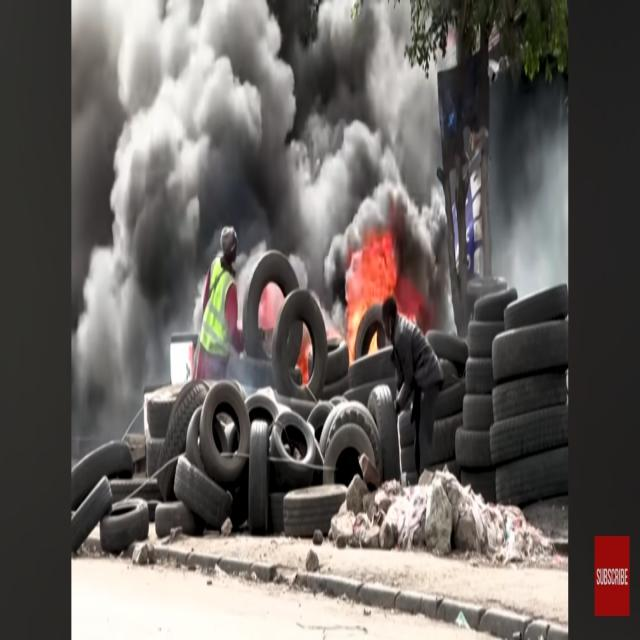fire: (347, 232, 396, 361)
